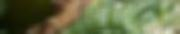Tomato Early blight leaf: (17, 0, 180, 34)
